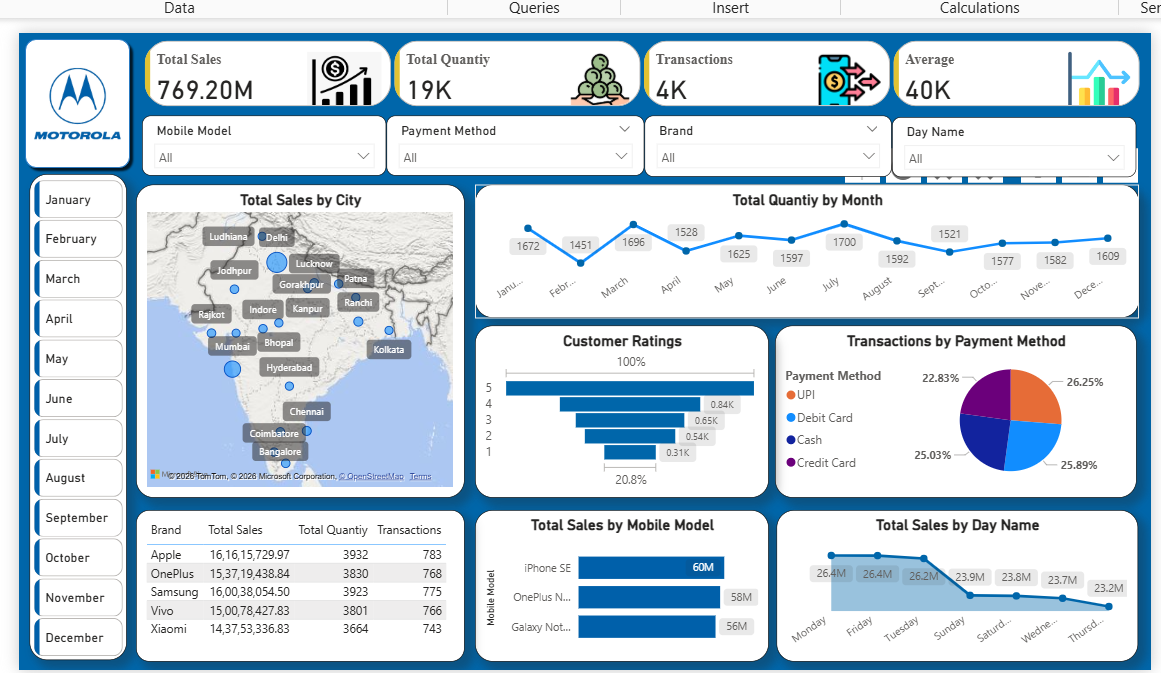

The page's visual inventory and layout, read from the dashboard file:
{"tool":"powerbi","page":{"name":"Page 1","canvas":[1280,720],"ordinal":0},"visuals":[{"type":"shape","box":[11.9,159.3,110.2,549.2],"z":0},{"type":"shape","box":[0,0,132.2,159.3],"z":1000},{"type":"image","box":[5.1,25.4,122,108.5],"z":2000},{"type":"cardVisual","fields":{"Data":["Sales_Data.Total SAles","Sales_Data.Total Quantiy","Sales_Data.Transactions","Sales_Data.Average"]},"box":[132.2,3.4,1147.5,91.5],"z":3000},{"type":"map","fields":{"Category":["Sales_Data.City"],"Size":["Sales_Data.Total Sales"]},"box":[132.2,171.2,371.2,354.2],"z":4000},{"type":"lineChart","fields":{"Y":["Sales_Data.Total Quantiy"],"Category":["Sales_Data.date.Variation.Date Hierarchy.Month","Sales_Data.date.Variation.Date Hierarchy.Day"]},"box":[515.3,171.2,750.8,150.8],"z":5000},{"type":"advancedSlicerVisual","fields":{"Values":["Sales_Data.date.Variation.Date Hierarchy.Month"]},"box":[11.9,161,110.2,549.2],"z":6000},{"type":"pieChart","fields":{"Category":["Sales_Data.Payment Method"],"Y":["Sales_Data.Transactions"]},"box":[854.2,330.5,408.5,194.9],"z":7000},{"type":"funnel","title":" Customer Ratings ","fields":{"Category":["Sales_Data.Customer Ratings"],"Y":["CountNonNull(Sales_Data.Customer Ratings)"]},"box":[515.3,330.5,332.2,194.9],"z":8000},{"type":"clusteredBarChart","fields":{"Category":["Sales_Data.Mobile Model"],"Y":["Sales_Data.Total Sales"]},"box":[515.3,539,332.2,171.2],"z":9000},{"type":"areaChart","title":"Total Sales by Day Name","fields":{"Y":["Sales_Data.Total Sales"],"Category":["Sales_Data.Day Name.1"]},"box":[855.9,539,408.5,171.2],"z":10000},{"type":"tableEx","fields":{"Values":["Sales_Data.Brand","Sales_Data.Total Sales","Sales_Data.Total Quantiy","Sales_Data.Transactions"]},"box":[132.2,539,371.2,171.2],"z":11000},{"type":"slicer","fields":{"Values":["Sales_Data.Payment Method"]},"box":[415.3,93.2,291.5,67.8],"z":13000},{"type":"slicer","fields":{"Values":["Sales_Data.Brand"]},"box":[706.8,93.2,279.7,69.5],"z":14000},{"type":"slicer","fields":{"Values":["Sales_Data.Day Name.1"]},"box":[986.4,94.9,276.3,67.8],"z":15000},{"type":"slicer","fields":{"Values":["Sales_Data.Mobile Model"]},"box":[139,93.2,276.3,67.8],"z":16000}]}

Visuals, with their boxes in screenshot pixels (x1, y1, x2, y2):
shape: bbox=[26, 170, 124, 661]
shape: bbox=[15, 27, 133, 170]
image: bbox=[20, 50, 129, 147]
cardVisual - Sales_Data.Total SAles x Sales_Data.Total Quantiy: bbox=[133, 30, 1160, 112]
map - Sales_Data.City x Sales_Data.Total Sales: bbox=[133, 180, 465, 497]
lineChart - Sales_Data.Total Quantiy x Sales_Data.date.Variation.Date Hierarchy.Month: bbox=[476, 180, 1148, 315]
advancedSlicerVisual - Sales_Data.date.Variation.Date Hierarchy.Month: bbox=[26, 171, 124, 662]
pieChart - Sales_Data.Payment Method x Sales_Data.Transactions: bbox=[779, 323, 1145, 497]
" Customer Ratings " funnel: bbox=[476, 323, 773, 497]
clusteredBarChart - Sales_Data.Mobile Model x Sales_Data.Total Sales: bbox=[476, 509, 773, 662]
"Total Sales by Day Name" areaChart: bbox=[781, 509, 1146, 662]
tableEx - Sales_Data.Brand x Sales_Data.Total Sales: bbox=[133, 509, 465, 662]
slicer - Sales_Data.Payment Method: bbox=[387, 111, 647, 171]
slicer - Sales_Data.Brand: bbox=[647, 111, 898, 173]
slicer - Sales_Data.Day Name.1: bbox=[897, 112, 1145, 173]
slicer - Sales_Data.Mobile Model: bbox=[139, 111, 387, 171]
